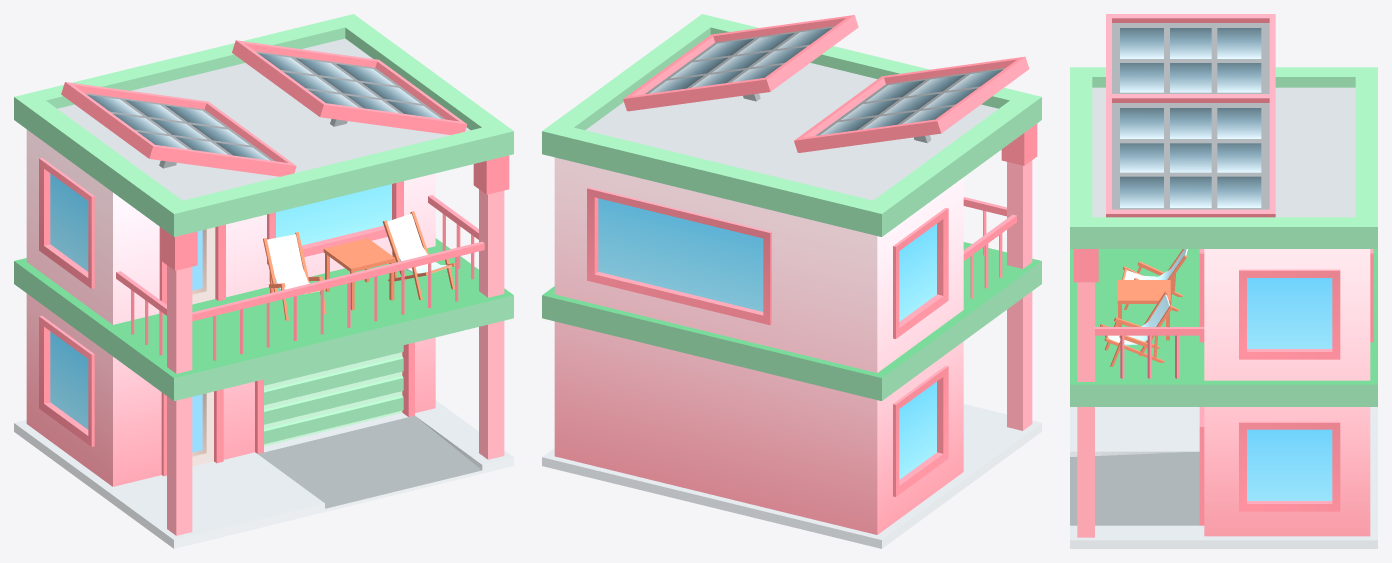
Rendered from city2-building-living-19.glb.
3 renders of one model, left to right at view 1: azimuth 30°, elevation 25°; view 2: azimuth 150°, elevation 25°; view 3: azimuth 270°, elevation 25°, orthographic. The views are drawn at different scales.
Parts seen in each view (by area): view 1: Building_Living_19; view 2: Building_Living_19; view 3: Building_Living_19.
Boxes of the visible parts, <box> form: Building_Living_19: <box>14,14,513,548</box>; Building_Living_19: <box>542,14,1041,548</box>; Building_Living_19: <box>1070,14,1377,548</box>.
Size of the model in its own units: 8.18 by 8.79 by 6.55.
Materials: 1 (1 with a texture image).
